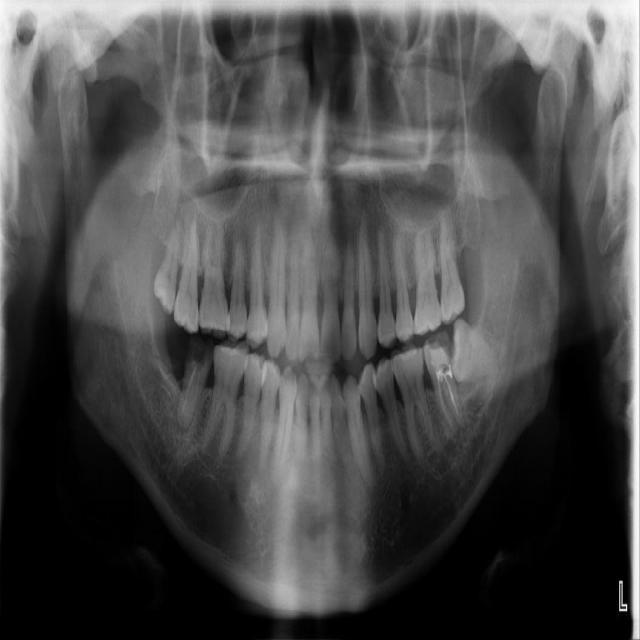3M ESPE Implant: (150, 210, 185, 315)
52: (417, 329, 463, 380), (183, 332, 218, 375)
73: (430, 369, 467, 436), (174, 366, 209, 431), (570, 554, 576, 564)
BioHorizons Implant: (414, 219, 443, 336)
BioLife Implant: (439, 209, 465, 326)
Biomet 3i Implant: (450, 317, 502, 383)
Blue Sky Bio Implant: (420, 330, 467, 437)
Caries: (173, 206, 200, 334)
Implant: (169, 331, 219, 432)
